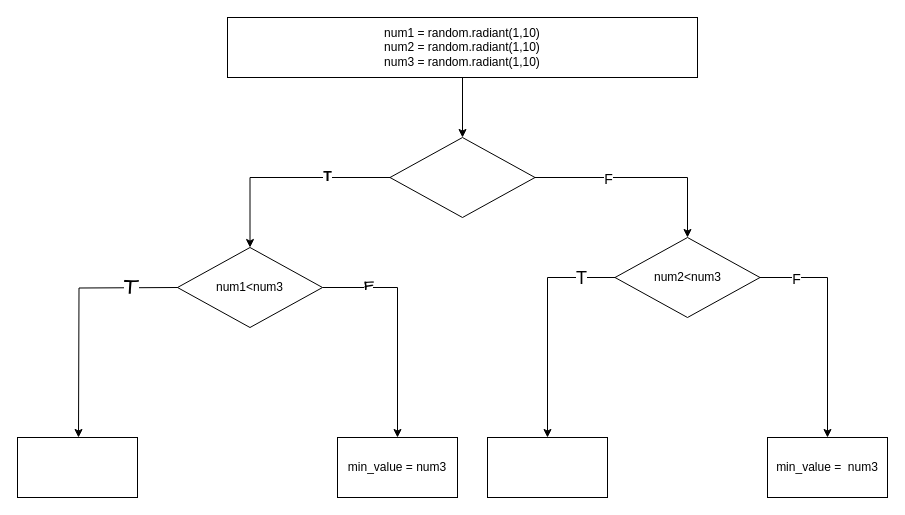
Image size: 905x515. Some labels were removed from this diagram. Here are the shapes that lost their labels. From the top down, the centre of each, then its label:
At (x=462, y=177): "num1<num2".
At (x=77, y=467): "min_value = num1".
At (x=547, y=467): "min_value = num2".
